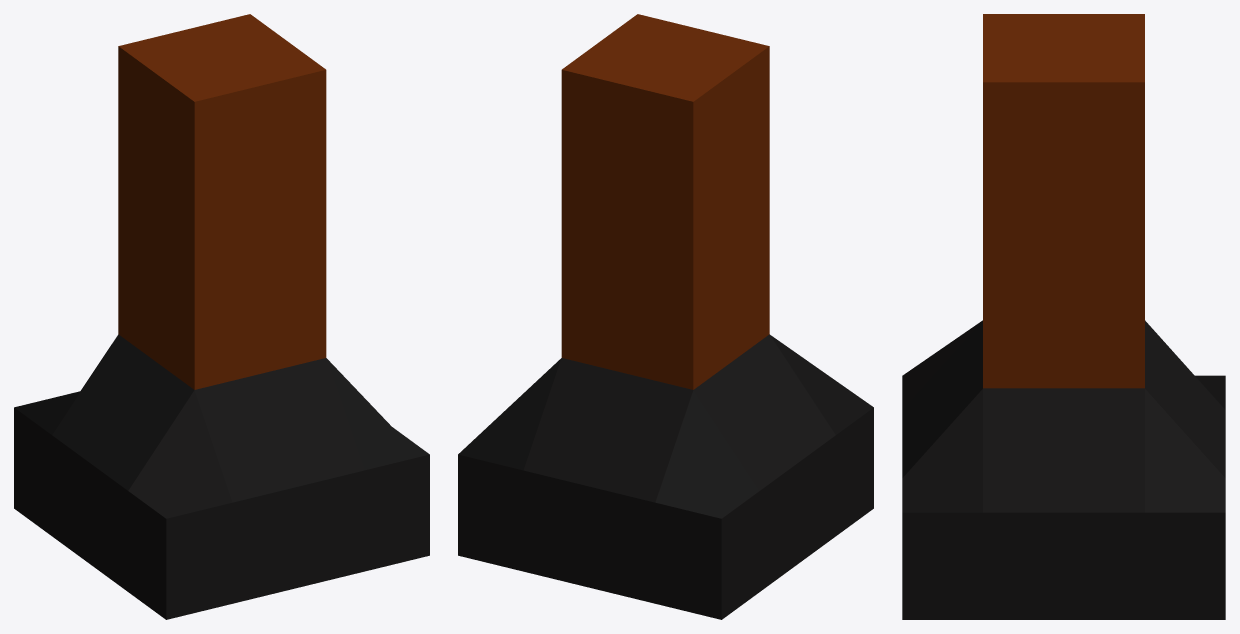
The model's file is turret bottom002.fbx.
The picture shows the model from 3 angles, left to right: view 1: azimuth 30°, elevation 25°; view 2: azimuth 150°, elevation 25°; view 3: azimuth 270°, elevation 25°; orthographic projection. The views are drawn at different scales.
Visible parts, largest first — view 1: Cube; view 2: Cube; view 3: Cube.
Boxes of the visible parts, x1,y1,x2,y2 form: Cube: (14,14,429,619); Cube: (458,14,873,619); Cube: (902,14,1225,619).
Bounding box in the file's own units: 200 × 344 × 200.
